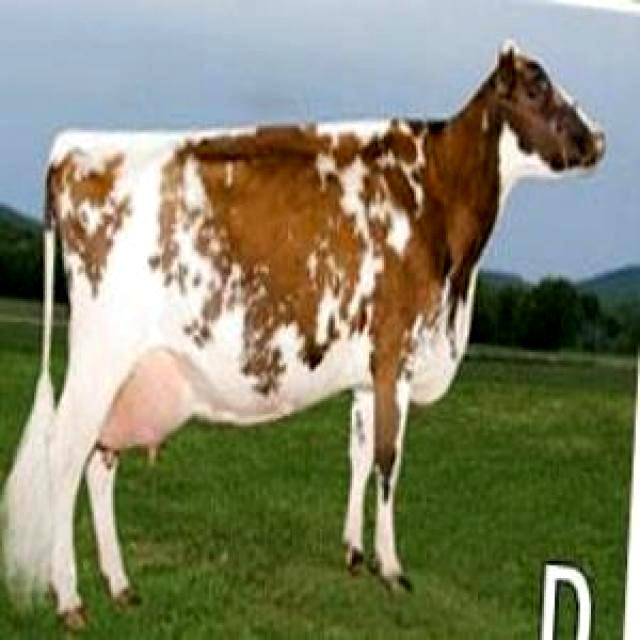COW: (2, 46, 604, 619)
